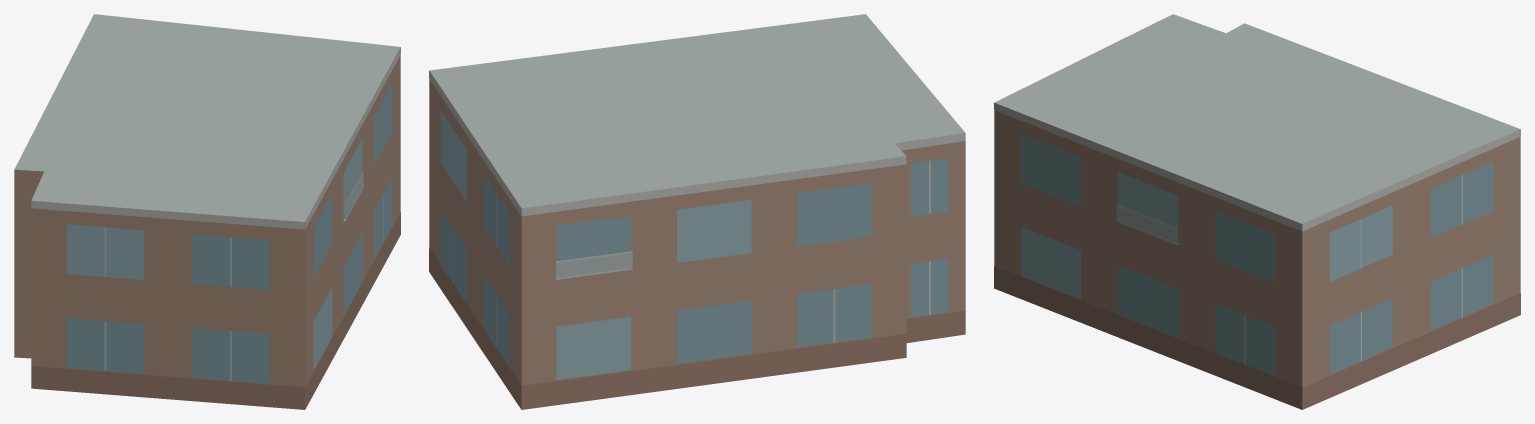
The model's file is survey-upis-32849219.glb.
The picture shows the model from 3 angles, left to right: view 1: azimuth 30°, elevation 25°; view 2: azimuth 150°, elevation 25°; view 3: azimuth 270°, elevation 25°; orthographic projection. The views are drawn at different scales.
Parts seen in each view (by area): view 1: survey-upis-32849219.tmp; view 2: survey-upis-32849219.tmp; view 3: survey-upis-32849219.tmp.
Boxes of the visible parts, x1,y1,x2,y2 form: survey-upis-32849219.tmp: (14, 14, 400, 409); survey-upis-32849219.tmp: (429, 14, 965, 409); survey-upis-32849219.tmp: (994, 14, 1520, 409).
Bounding box in the file's own units: 14.79 × 6.1 × 15.67.
